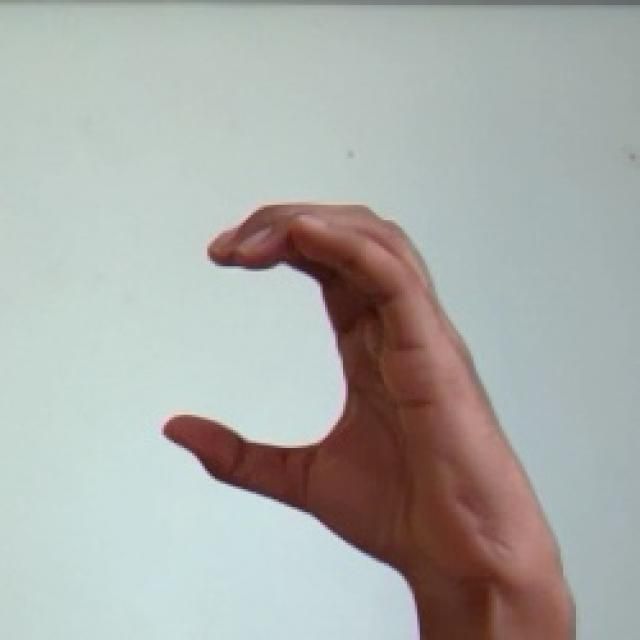Alphabet-C: (164, 205, 576, 640)
